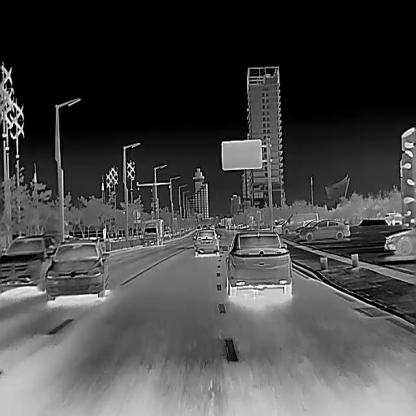car: (224, 230, 291, 296), (45, 241, 109, 299), (0, 233, 56, 293), (299, 218, 350, 240), (384, 228, 416, 255), (192, 229, 221, 256), (281, 212, 318, 232), (294, 219, 321, 233), (385, 212, 402, 224)
truck: (143, 218, 164, 245)
